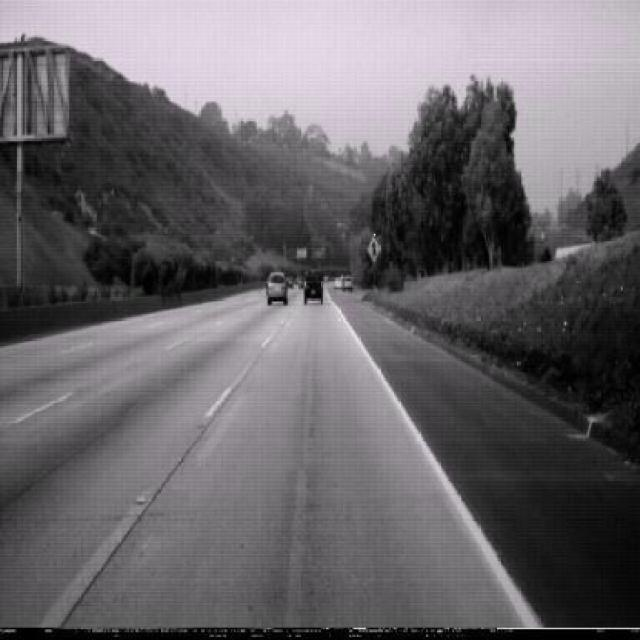merge: (366, 234, 381, 263)
